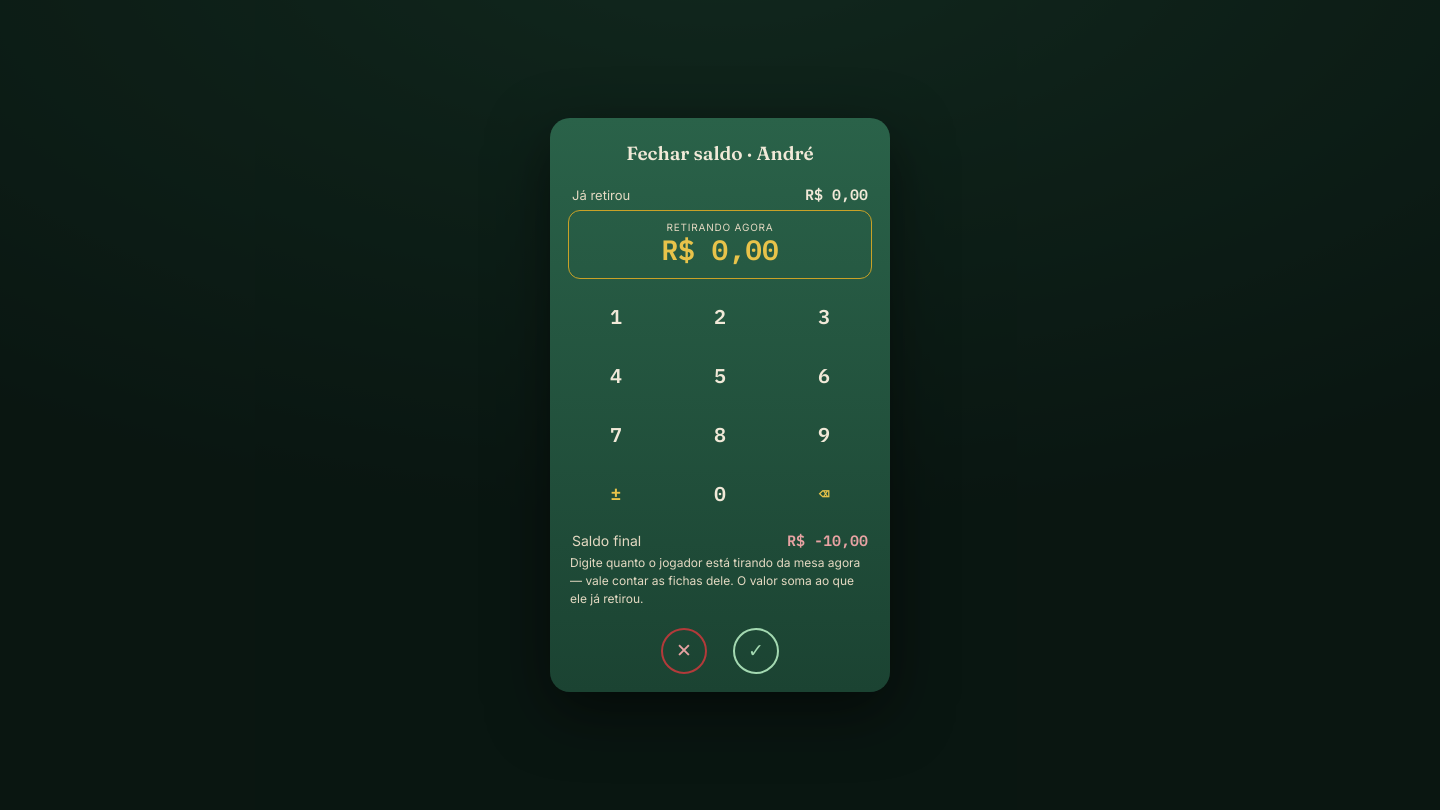
Test case: AdjustModal › apaga o último dígito
The width and height of the screenshot is (1440, 810).
Click the button "5" at (720, 375), box [672, 350, 768, 401]
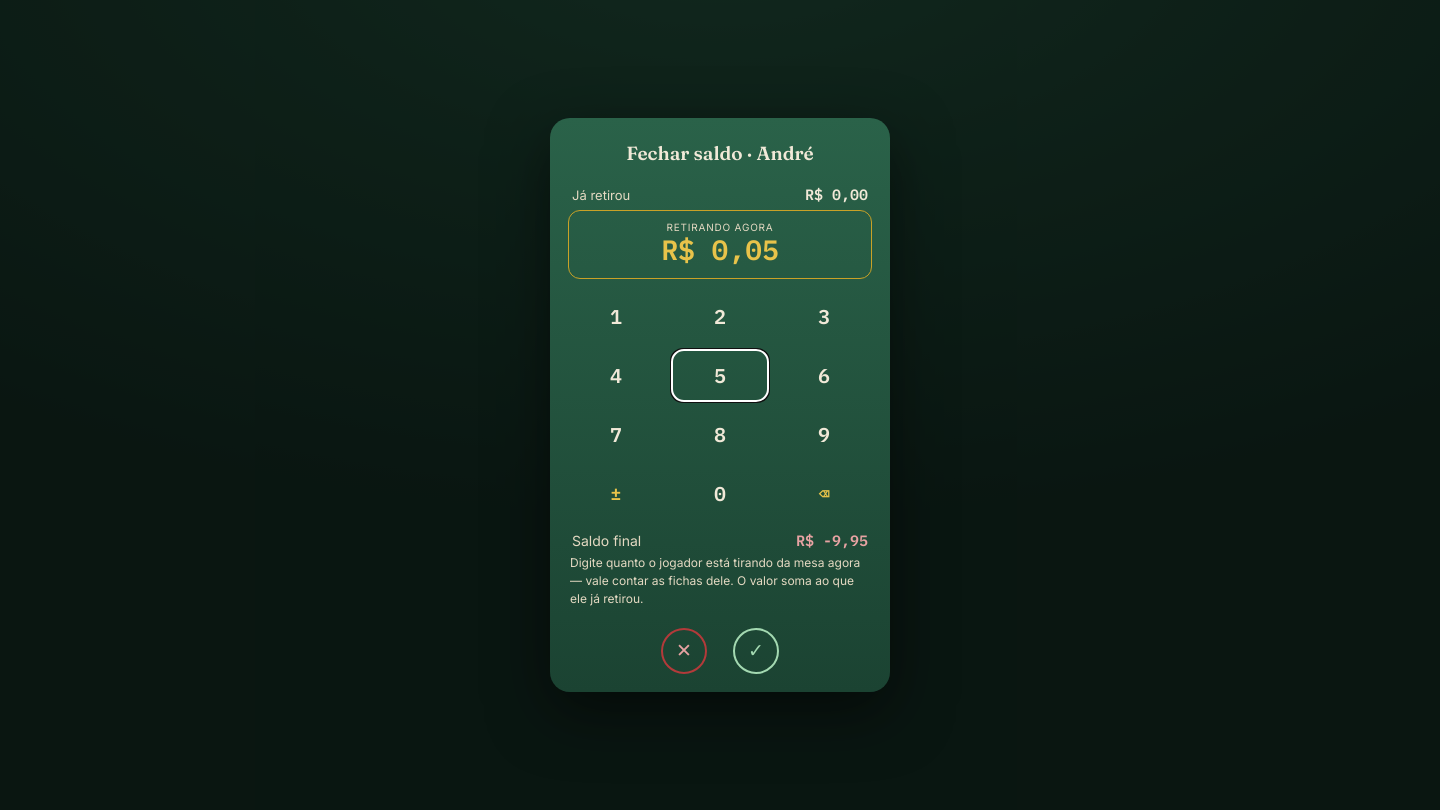
Click the button "0" at (720, 493), box [672, 468, 768, 519]
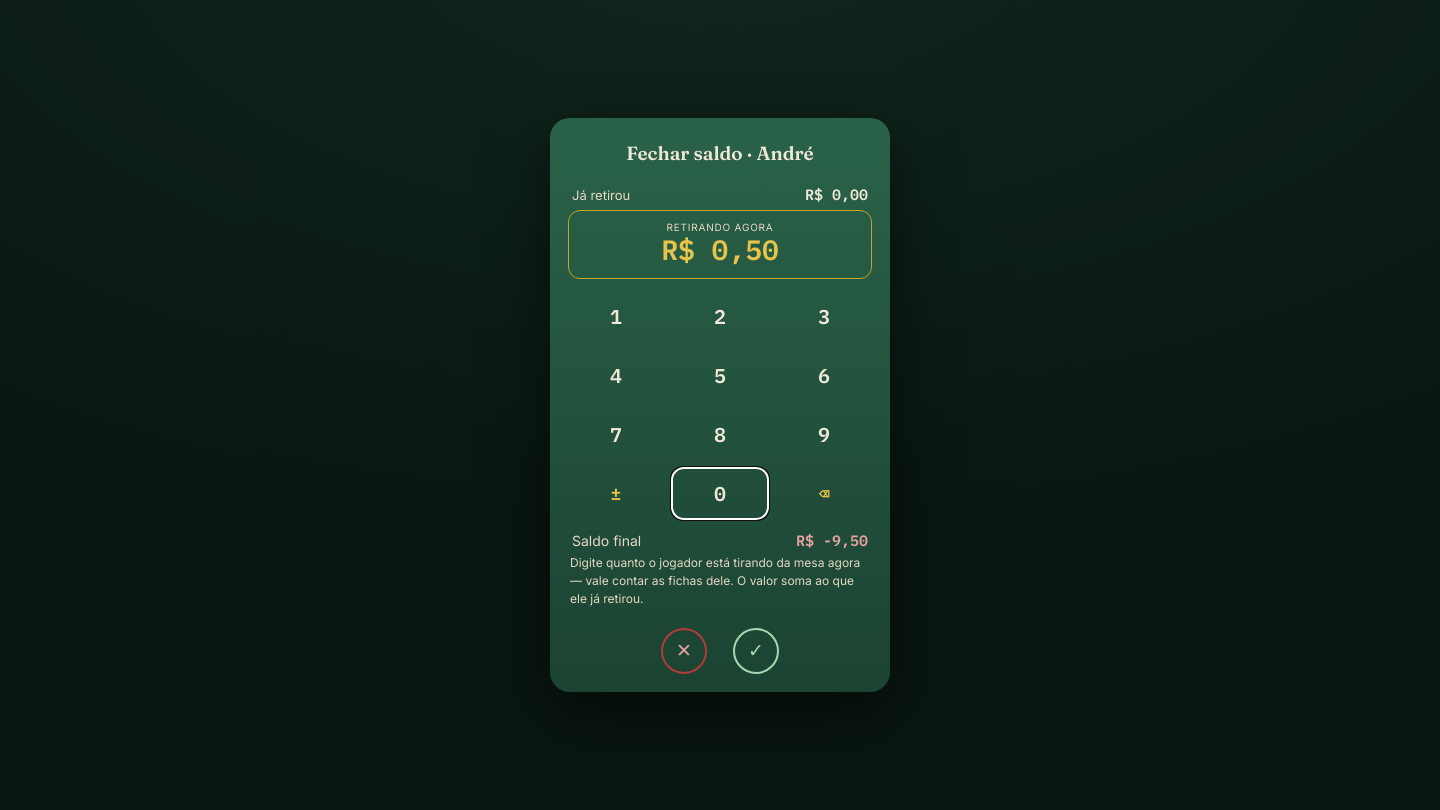
Expected: the text with class "adjust-display-value" reads "R$ 0,50", [661, 231, 779, 268]
Click the button "⌫" at (824, 493), box [776, 468, 872, 519]
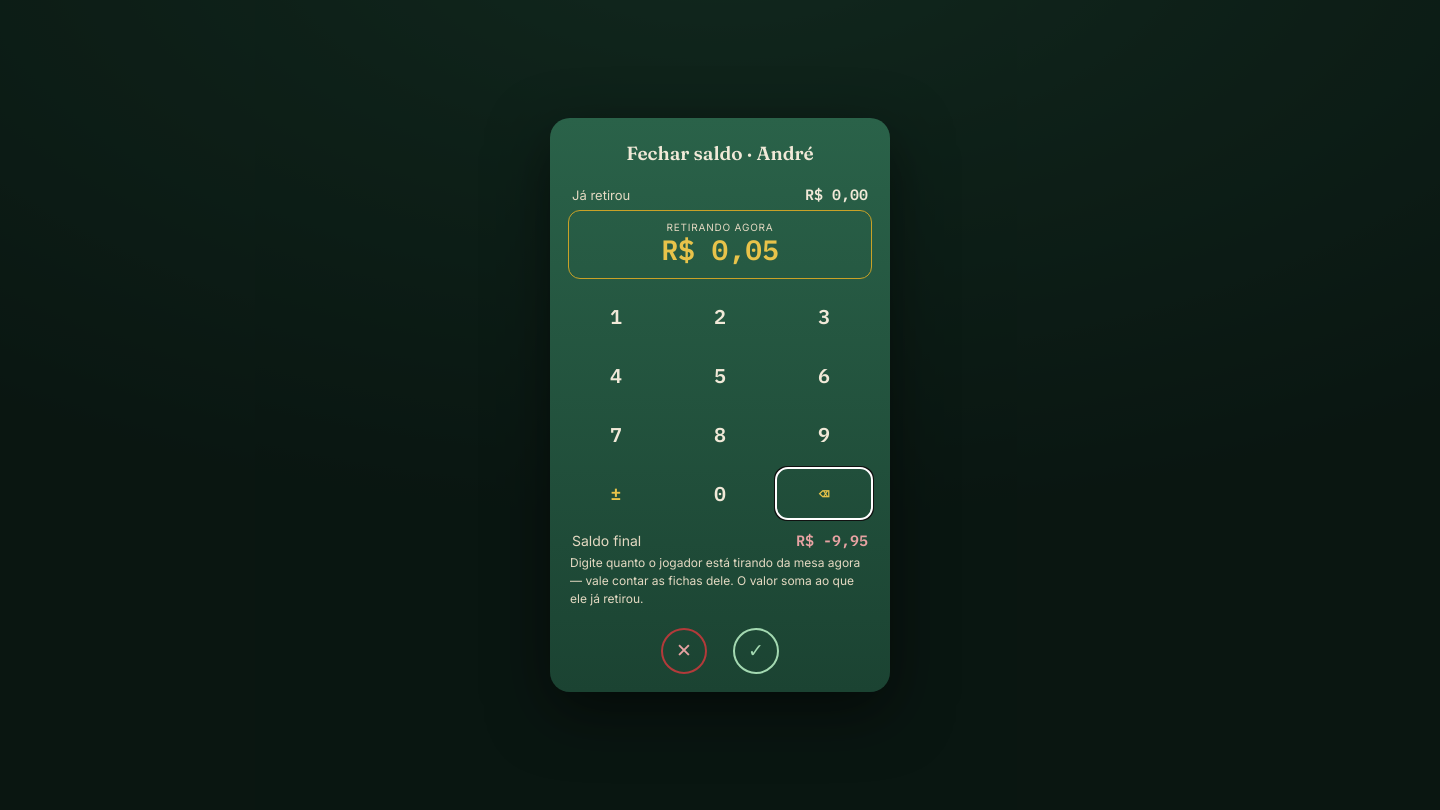
Expected: the text with class "adjust-display-value" reads "R$ 0,05", [661, 231, 779, 268]
